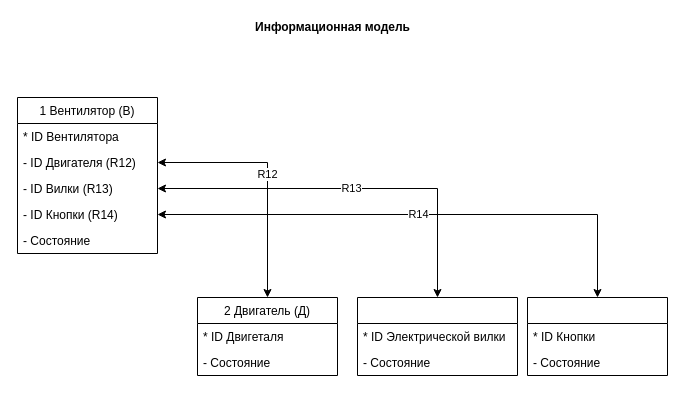
This 685x395 diagram has some shape labels left out. Each missing label, with the box of its shape:
3 Электрическая вилка (Э): (356, 296, 518, 376)
4 Кнопка (К): (526, 296, 668, 376)
